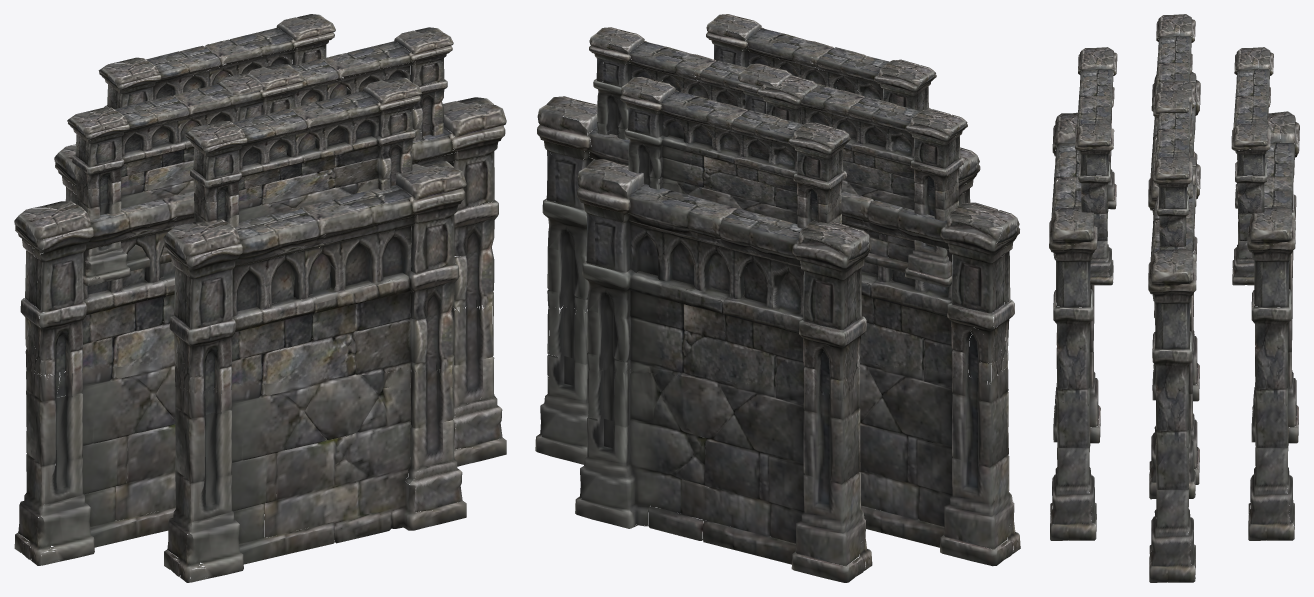
File: Valoria_Tower_StoneDefV2.glb
3 views of the same model, side by side, from view 1: azimuth 30°, elevation 25°; view 2: azimuth 150°, elevation 25°; view 3: azimuth 270°, elevation 25° (orthographic). The views are drawn at different scales.
Parts seen in each view (by area): view 1: Tower facade · 00.001, Tower facade · 00.003, Tower crown · 00.001, Tower crown · 00.003, Tower facade · 00, Tower crown · 00.002, Tower crown · 00, Tower facade · 00.002; view 2: Tower facade · 00.002, Tower facade · 00.003, Tower crown · 00.002, Tower crown · 00.003, Tower facade · 00, Tower crown · 00, Tower crown · 00.001, Tower facade · 00.001; view 3: Tower facade · 00.002, Tower facade · 00.001, Tower facade · 00, Tower crown · 00.001, Tower crown · 00.002, Tower crown · 00, Tower crown · 00.003, Tower facade · 00.003.
Boxes of the visible parts, x1,y1,x2,y2 form: Tower facade · 00.001: (163,160,466,582); Tower facade · 00.003: (14,155,307,565); Tower crown · 00.001: (185,77,421,270); Tower crown · 00.003: (67,63,304,285); Tower facade · 00: (240,97,506,470); Tower crown · 00.002: (98,14,335,185); Tower crown · 00: (216,27,453,200); Tower facade · 00.002: (54,90,350,491); Tower facade · 00.002: (575,159,872,582); Tower facade · 00.003: (731,156,1020,566); Tower crown · 00.002: (620,76,850,267); Tower crown · 00.003: (737,63,967,287); Tower facade · 00: (535,96,812,483); Tower crown · 00: (589,27,818,197); Tower crown · 00.001: (706,14,936,196); Tower facade · 00.001: (700,82,980,380); Tower facade · 00.002: (1247,111,1299,540); Tower facade · 00.001: (1049,112,1100,540); Tower facade · 00: (1148,154,1200,582); Tower crown · 00.001: (1075,47,1117,285); Tower crown · 00.002: (1231,47,1273,285); Tower crown · 00: (1153,80,1195,317); Tower crown · 00.003: (1153,14,1195,179); Tower facade · 00.003: (1148,72,1200,499).
Size of the model in its own units: 3.77 by 3.28 by 1.92.
1 material, 1 textured.
